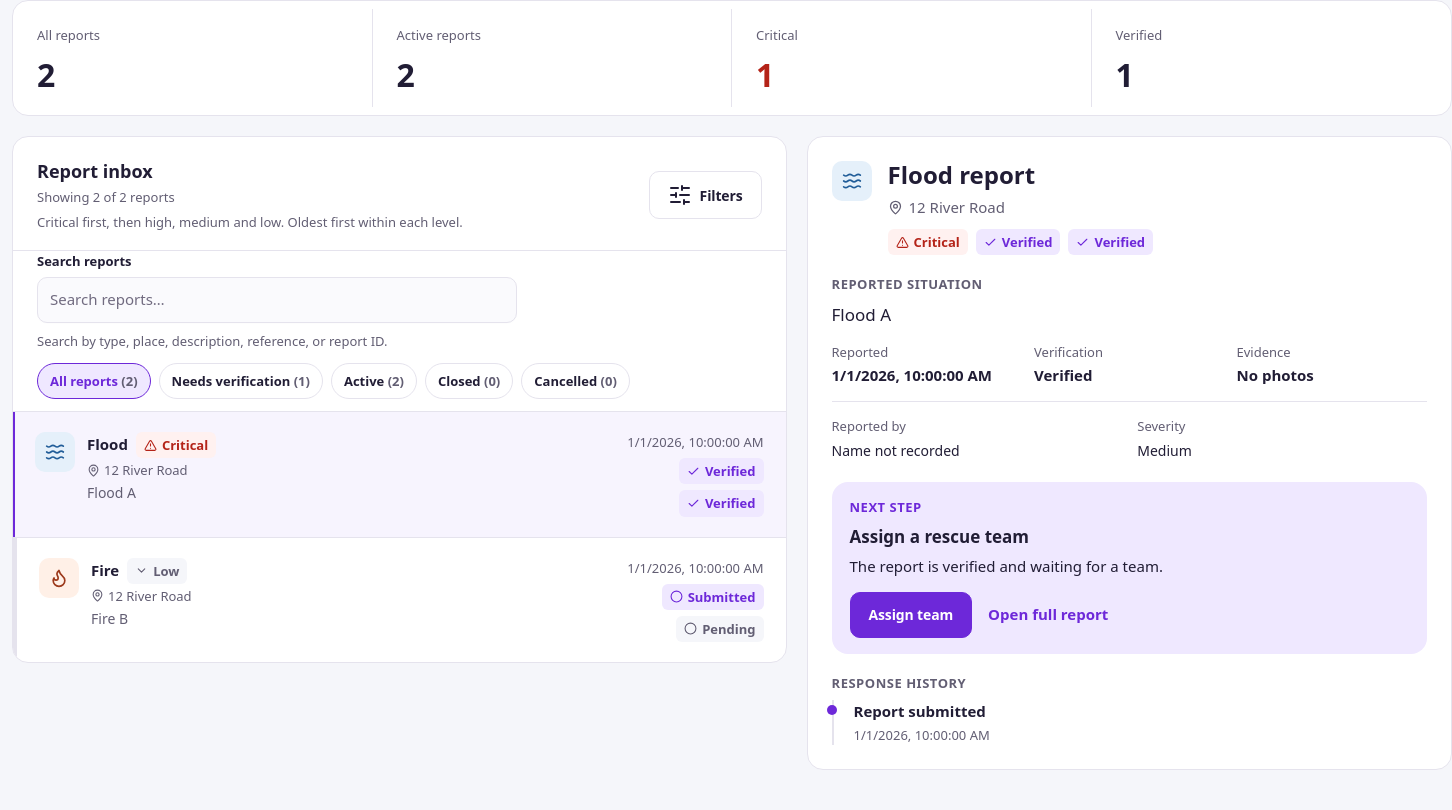
Test: ReportQueue › lets an admin open the verify action, as the server allows
Click the button "Fire B" at (59,578), box [13,538,786,662]
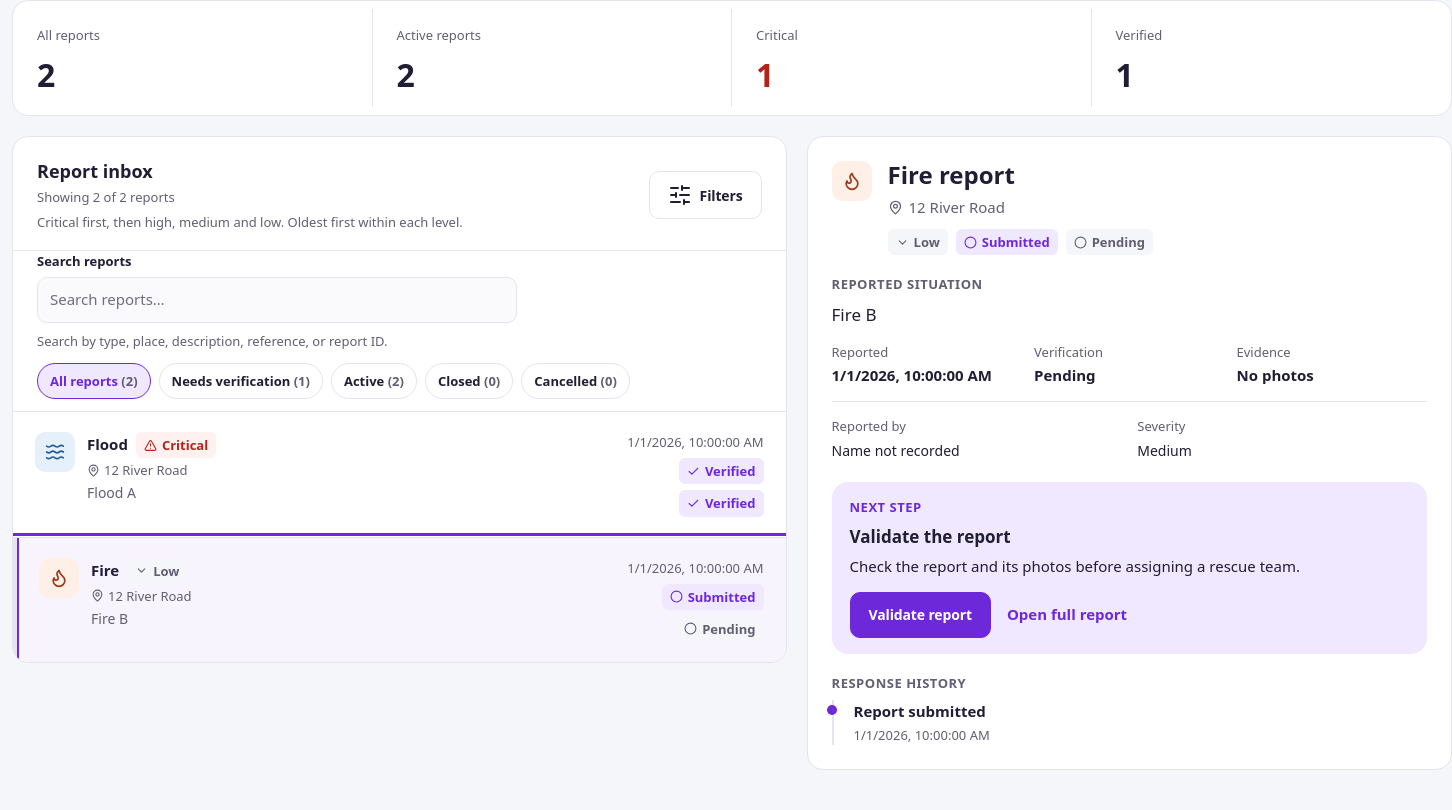
Expected: the link "Validate report" is shown, [850,592,991,638]
